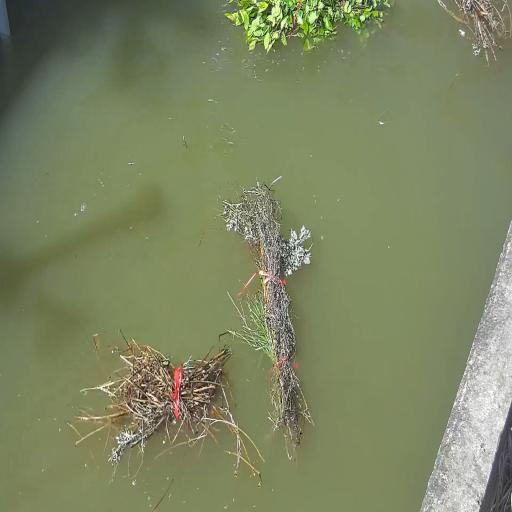twig: (213, 177, 337, 445), (95, 337, 256, 487), (217, 0, 397, 57), (432, 0, 512, 64)
